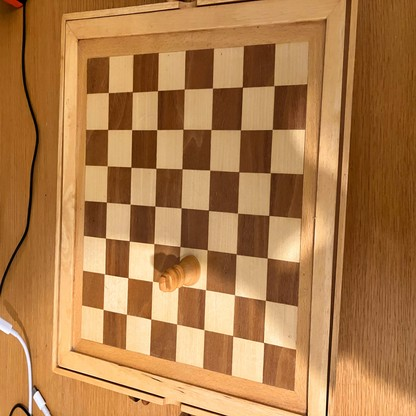king_white: (160, 255, 199, 291)
